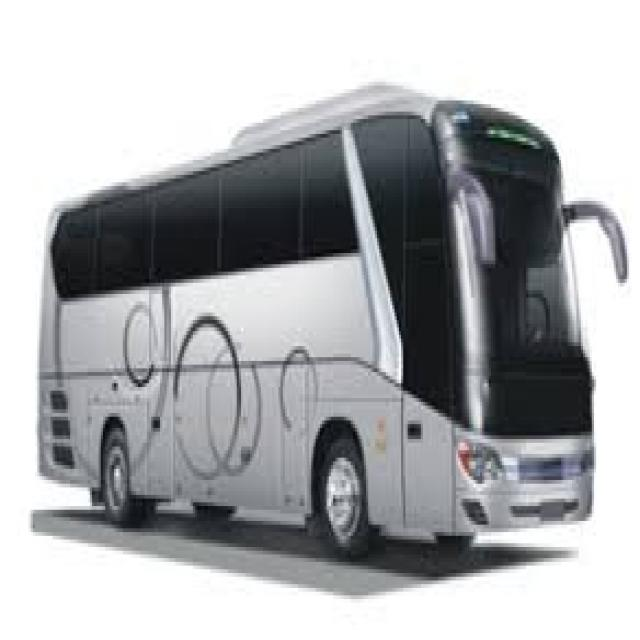bus: (28, 49, 629, 592)
